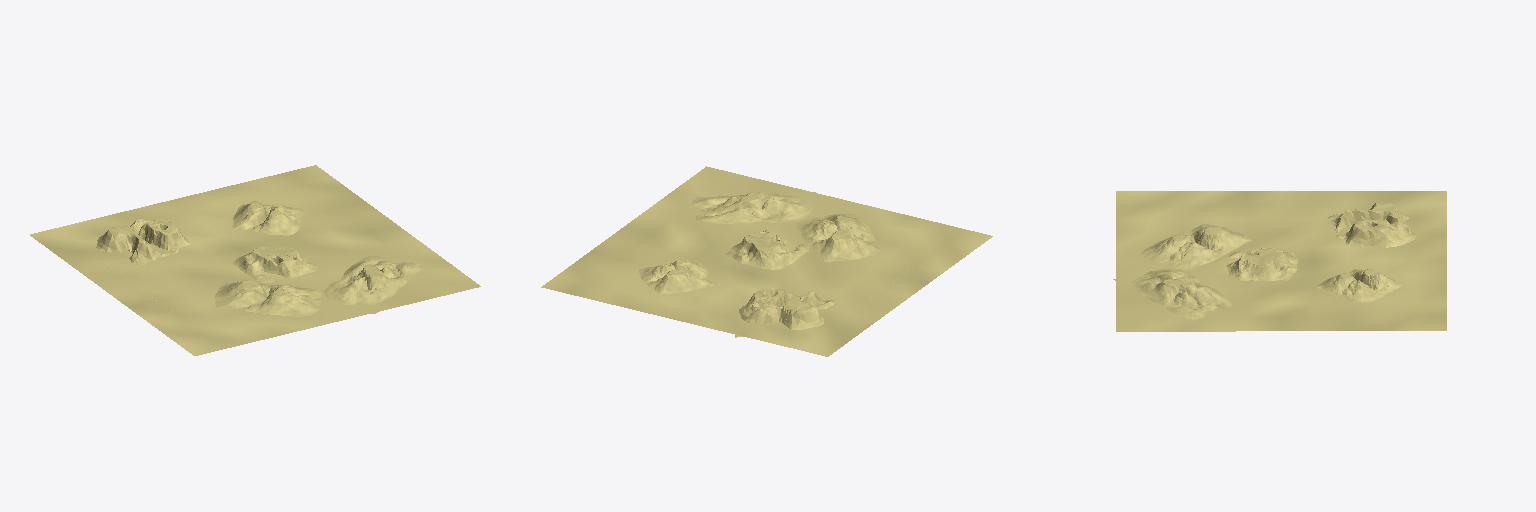
The picture shows the model from 3 angles: view 1: azimuth 30°, elevation 25°; view 2: azimuth 150°, elevation 25°; view 3: azimuth 270°, elevation 25°; orthographic projection.
Bounding box in the file's own units: 64495 × 3430 × 65043.
Materials: 1 (1 with a texture image).